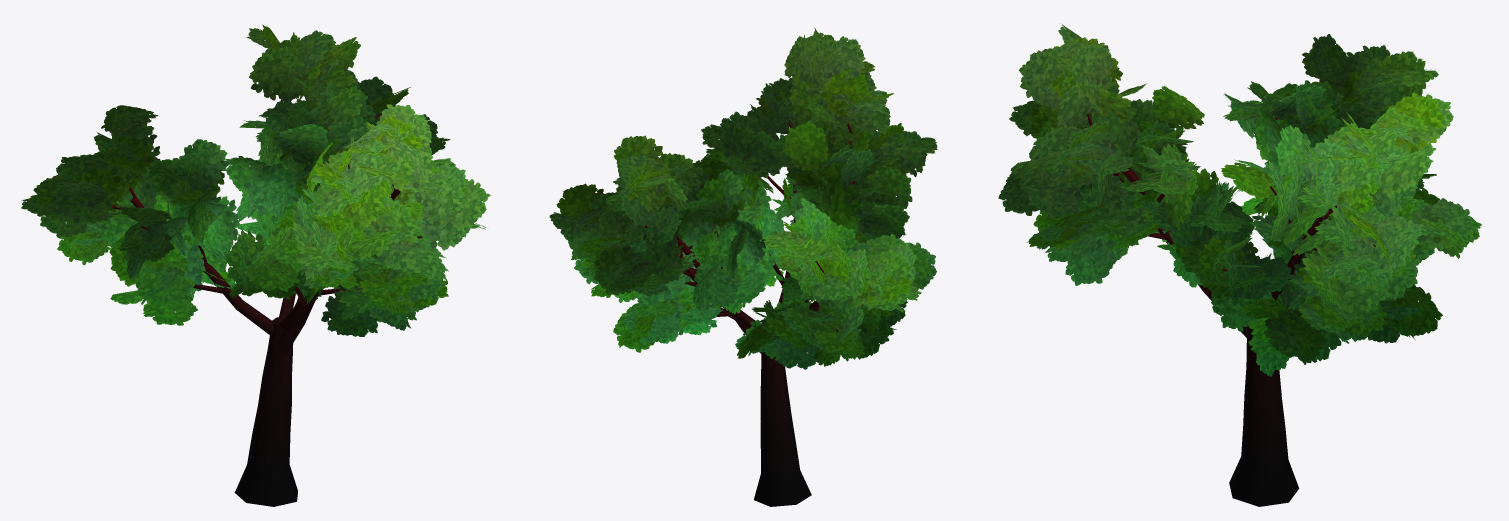
The model's file is SM_Tree_Oak_LOD2.gltf.
The picture shows the model from 3 angles, left to right: view 1: azimuth 30°, elevation 25°; view 2: azimuth 150°, elevation 25°; view 3: azimuth 270°, elevation 25°; orthographic projection. The views are drawn at different scales.
Visible parts, largest first — view 1: SM_Tree_Oak_LOD2; view 2: SM_Tree_Oak_LOD2; view 3: SM_Tree_Oak_LOD2.
Part boxes in pixels (left/top/right/bottom): SM_Tree_Oak_LOD2: left=21, top=25, right=490, bottom=506; SM_Tree_Oak_LOD2: left=549, top=28, right=937, bottom=506; SM_Tree_Oak_LOD2: left=998, top=24, right=1481, bottom=506.
Size of the model in its own units: 6.01 by 6.13 by 5.69.
Materials: 2 (2 with a texture image).
